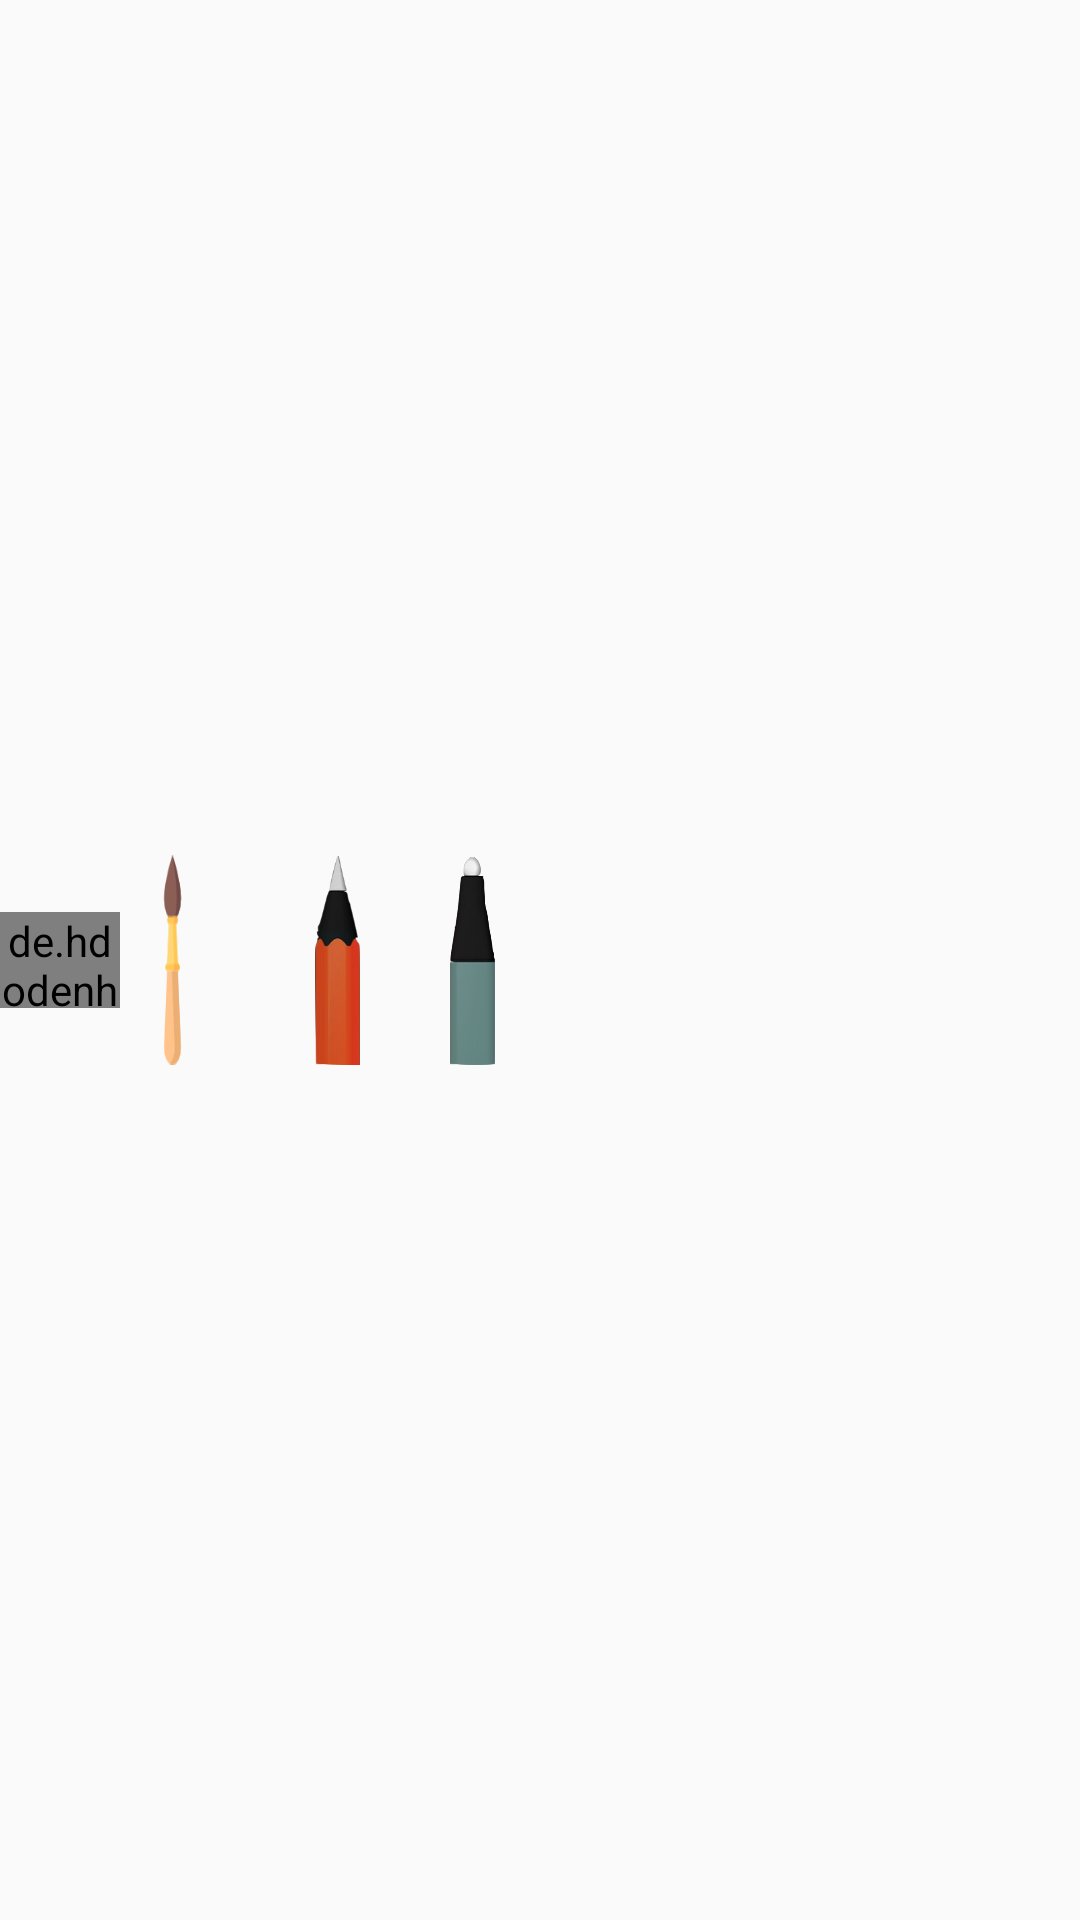

Where icons sit on this 1080px x 1920px app screen, as (x1, y1, x2, y2):
bigpen: (450, 857, 495, 1065)
pencil: (315, 856, 360, 1065)
